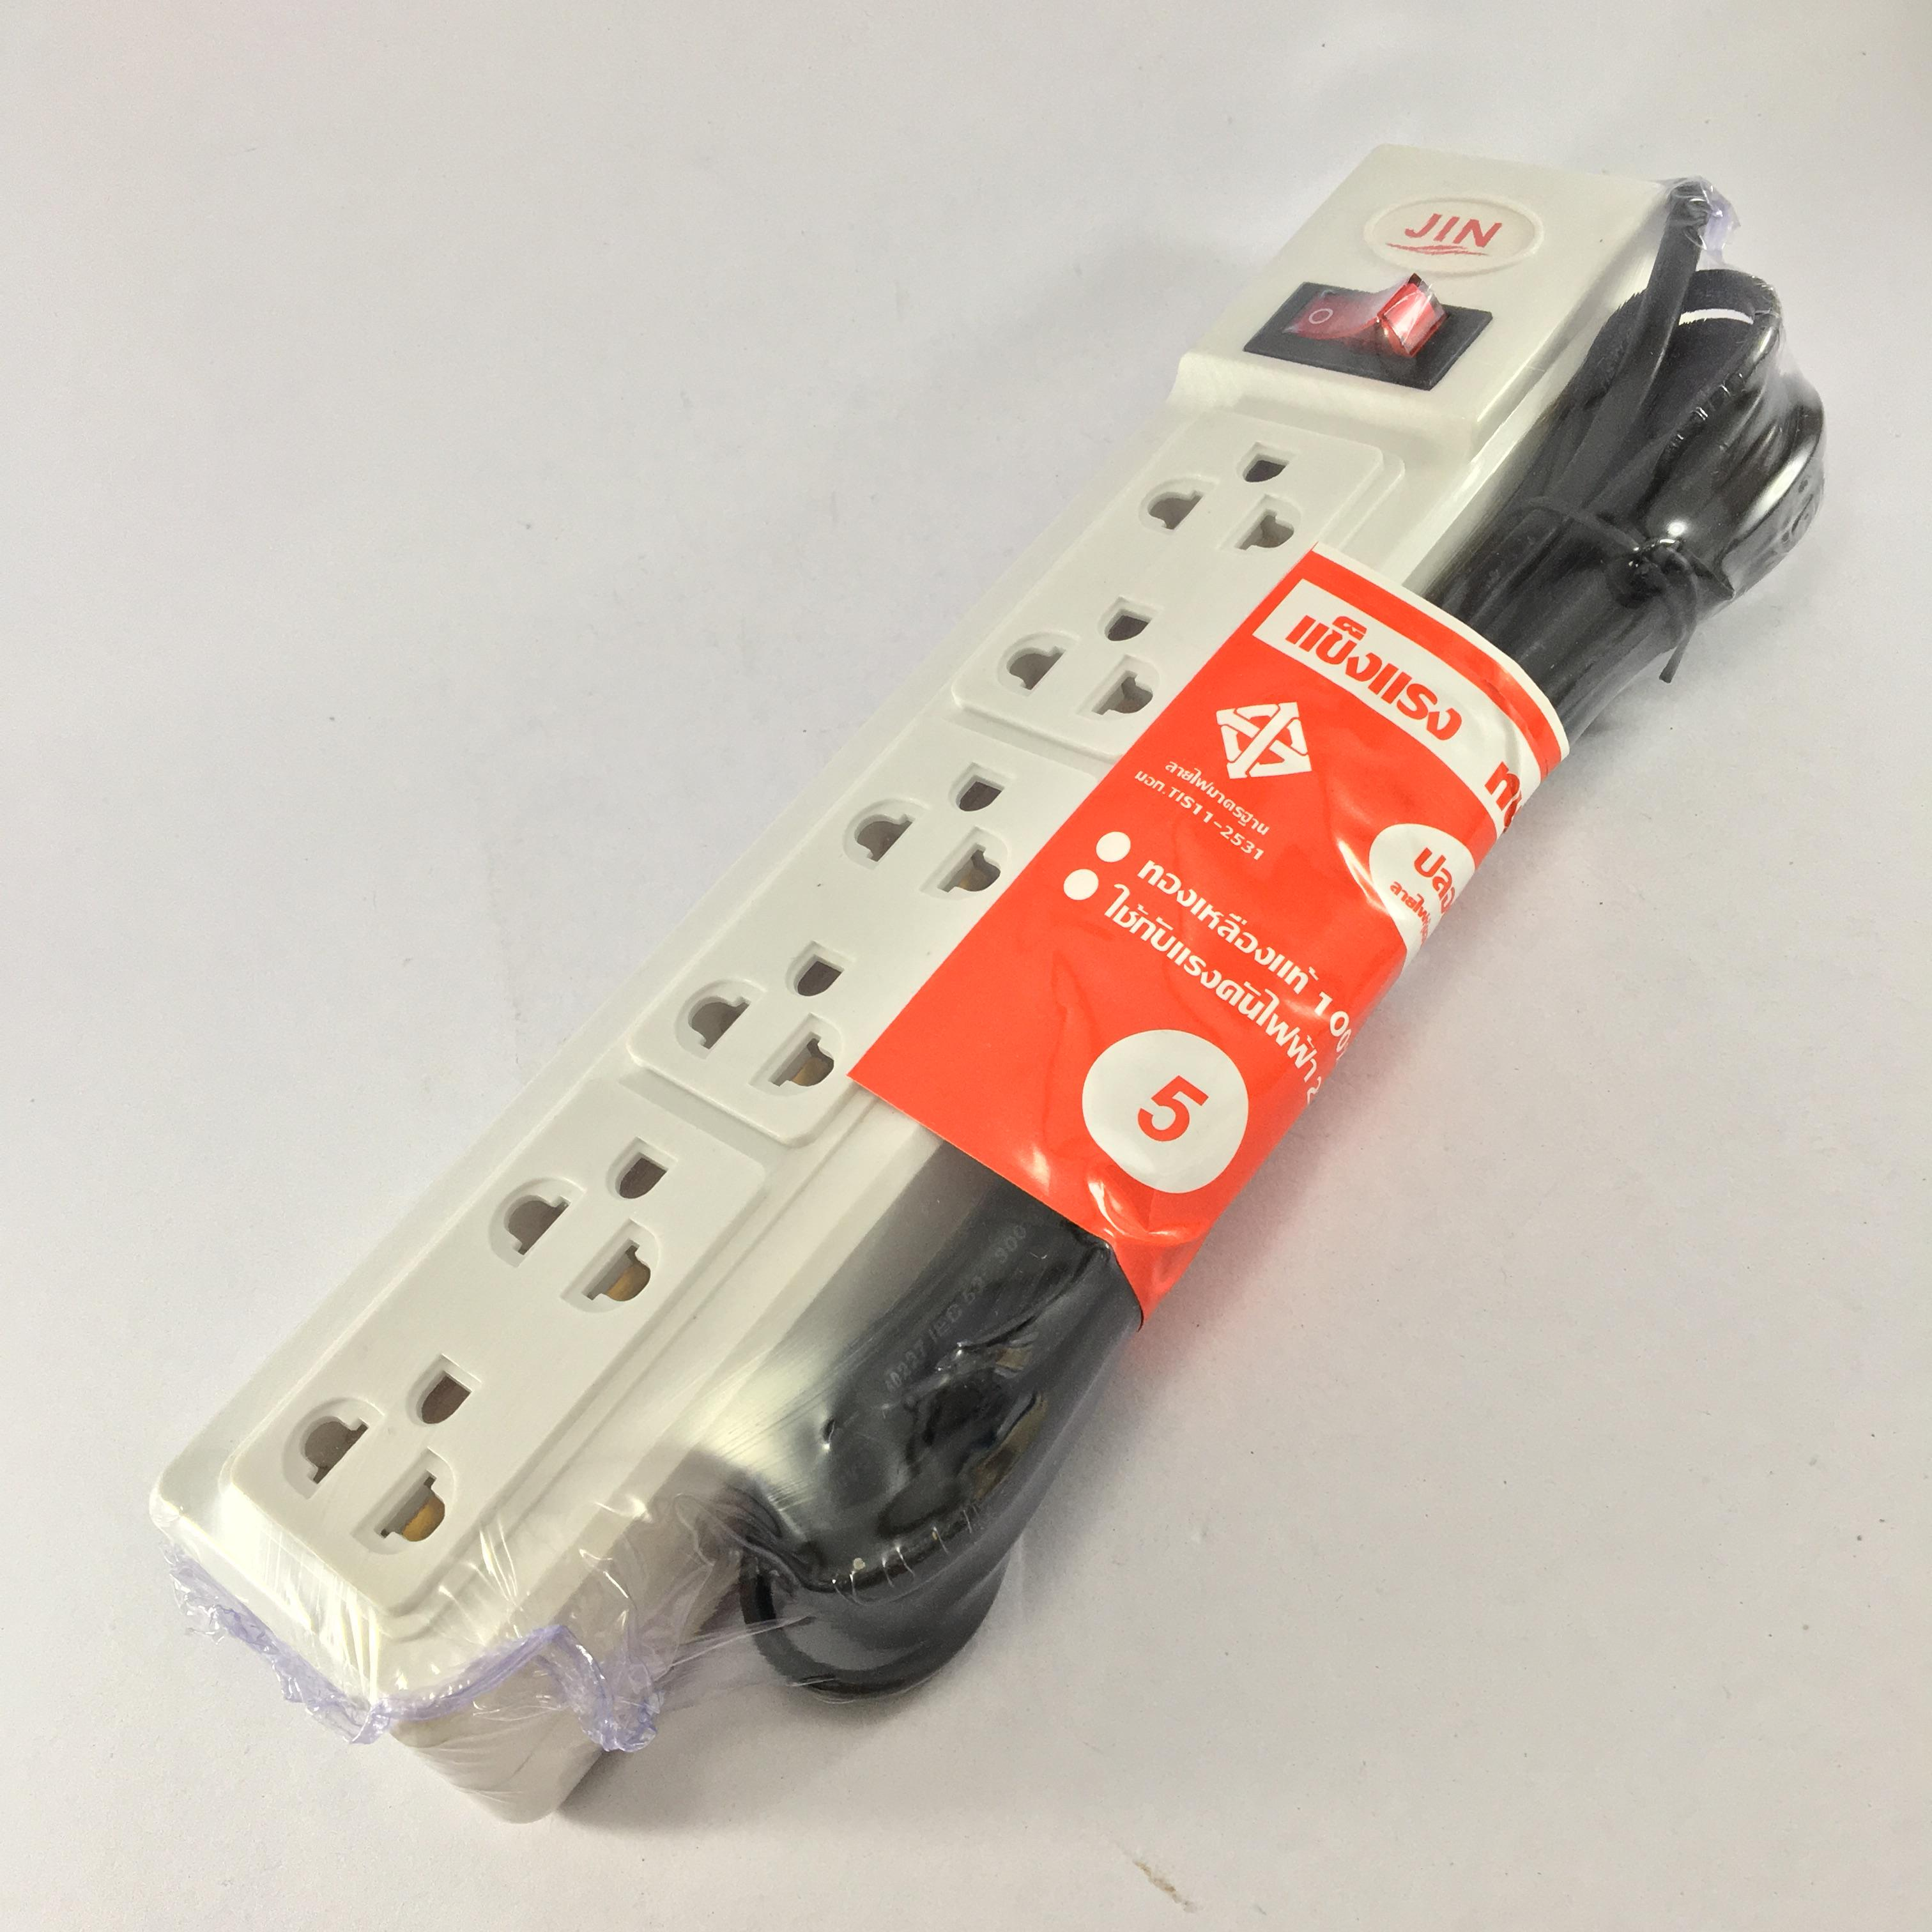Three_eye_plug: (124, 122, 1838, 1835)
